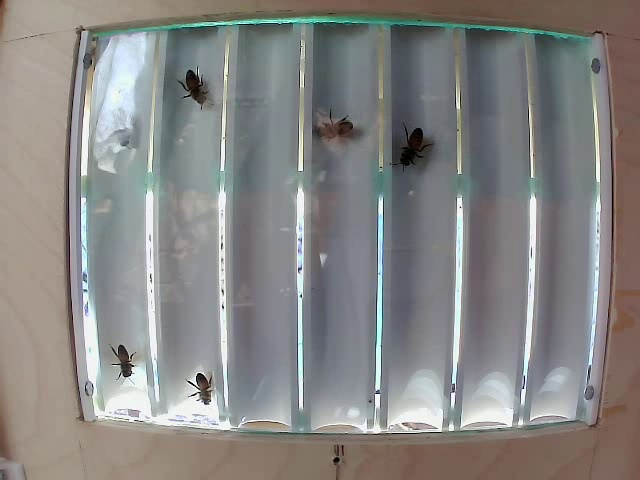bee: (174, 54, 212, 111), (310, 101, 350, 151), (392, 121, 430, 173), (181, 359, 224, 400), (94, 340, 130, 384)
